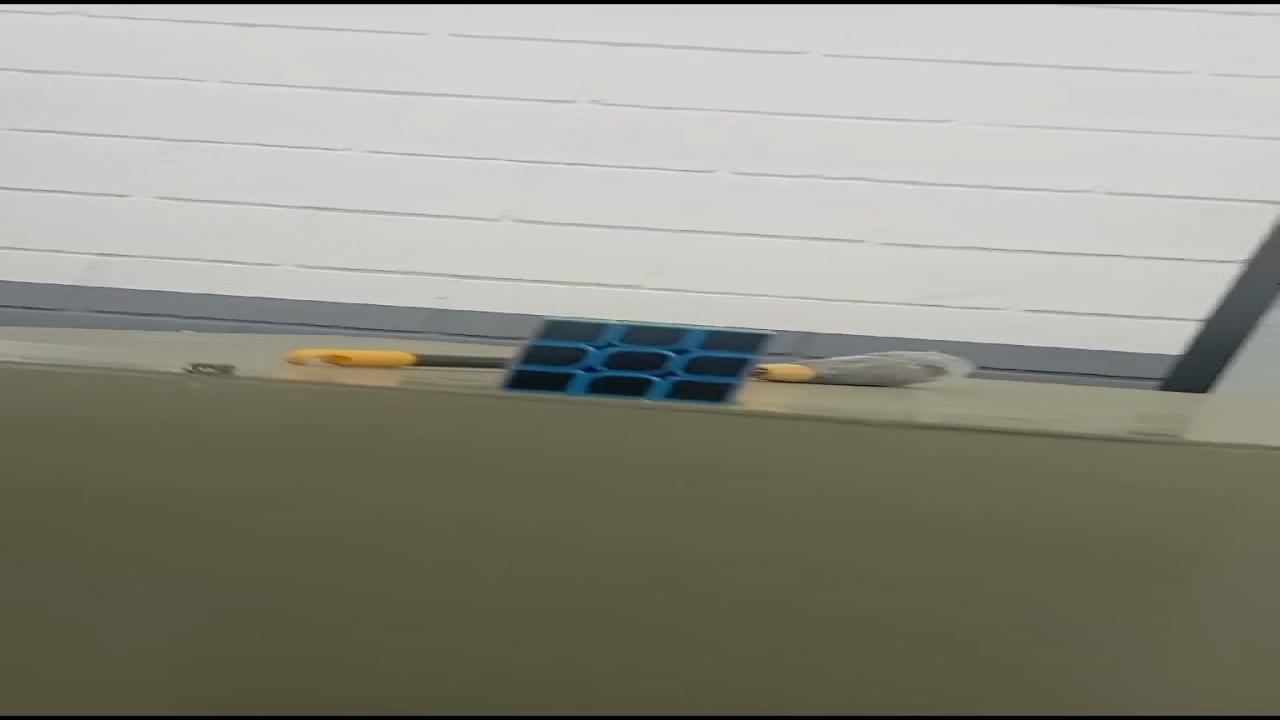Cube: (493, 316, 779, 406)
